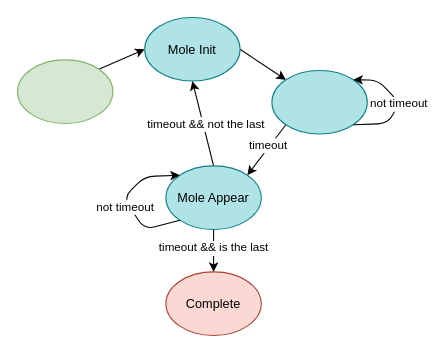
This 447x353 diagram has some shape labels left out. The shapes that lost their labels are listed below. From the top down, each one's centre as x and y in pixels, then its label:
At pixel 64 91: "Configure Info".
At pixel 319 101: "Wait for Appear".
